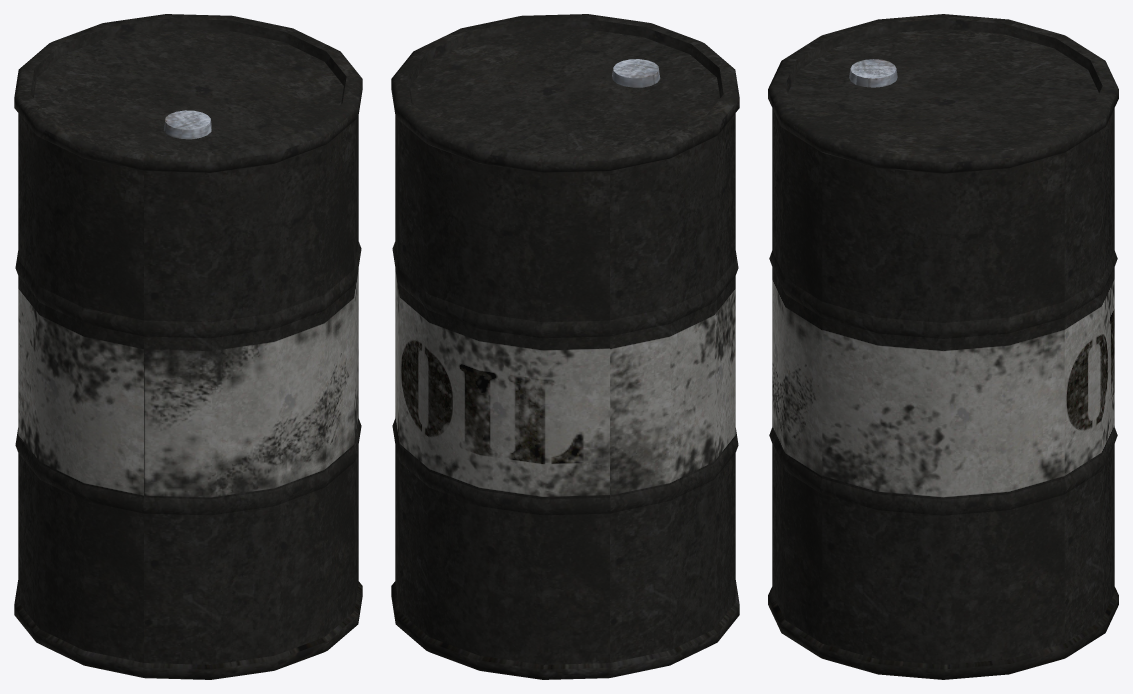
File: OilDrum_Black_Model.FBX
3 renders of one model, left to right at view 1: azimuth 30°, elevation 25°; view 2: azimuth 150°, elevation 25°; view 3: azimuth 270°, elevation 25°, orthographic.
Parts seen in each view (by area): view 1: OilDrumBlack; view 2: OilDrumBlack; view 3: OilDrumBlack.
Boxes of the visible parts, <box> form: OilDrumBlack: <box>14,14,362,679</box>; OilDrumBlack: <box>391,14,739,679</box>; OilDrumBlack: <box>768,14,1118,679</box>.
Size of the model in its own units: 1.43 by 2.35 by 1.43.
1 material, 1 textured.
